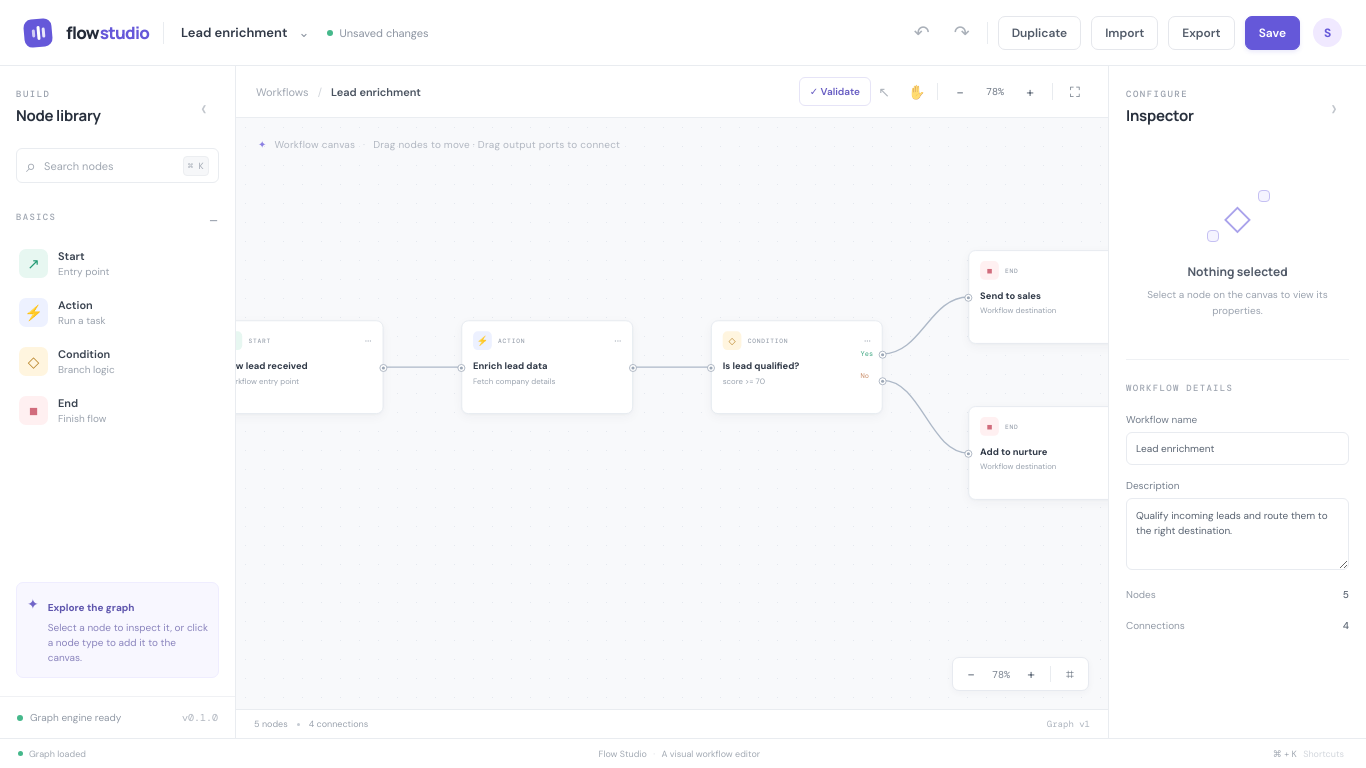
Test case: workflow editor interactions › connects nodes using only the keyboard
Click the button named "Start connection from New lead received, Next output". click: (383, 368)
box: [380,364,387,371]
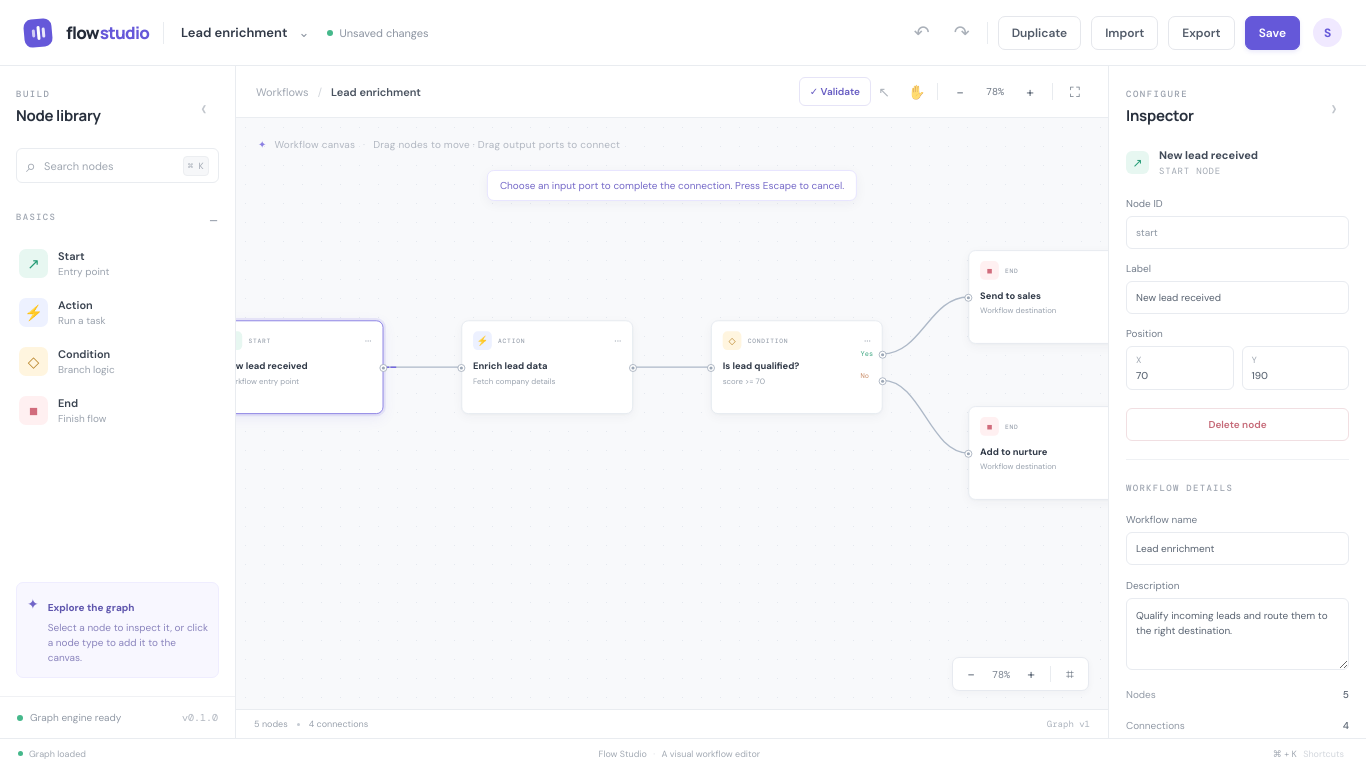
Click the button named "Connect to Send to sales, Input input". click: (968, 297)
box: [964,293,972,301]
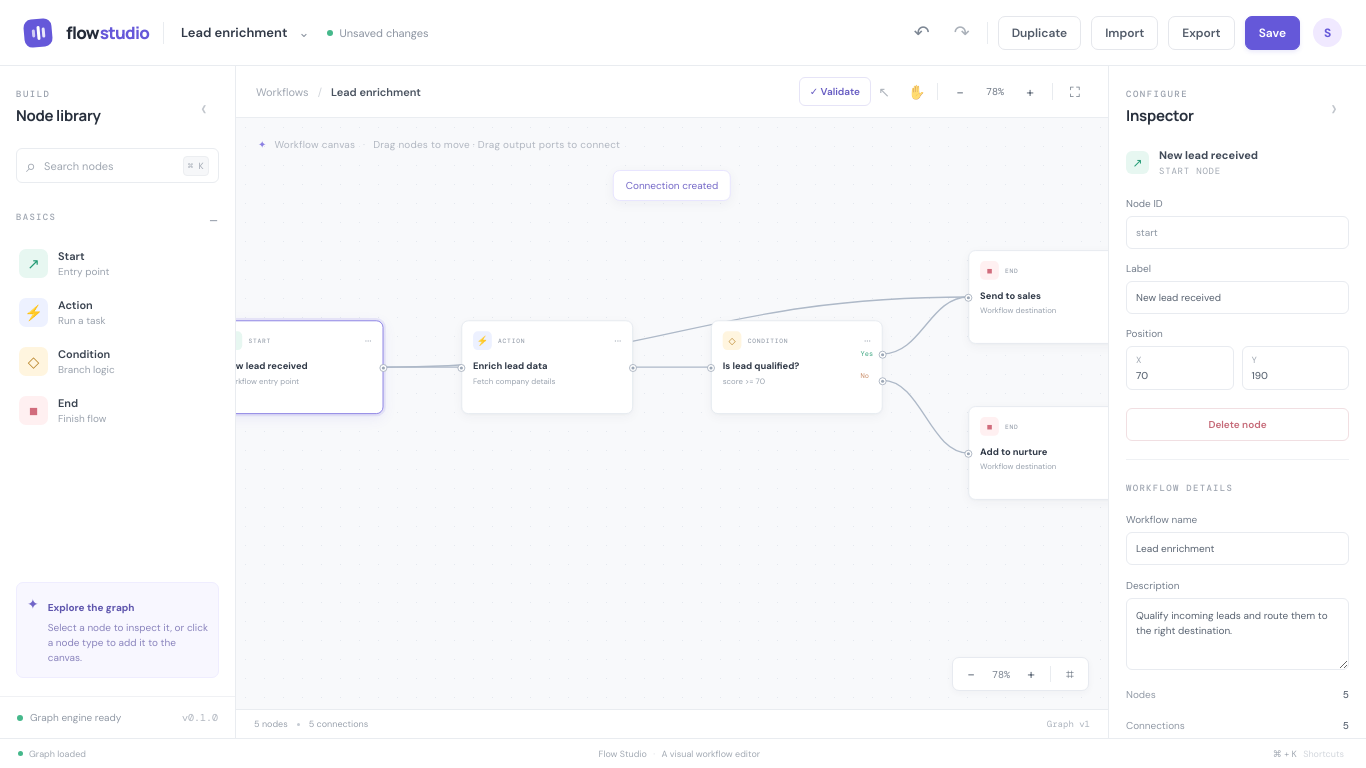
expect the message reads "Connection created": met, box [626,179,718,192]
